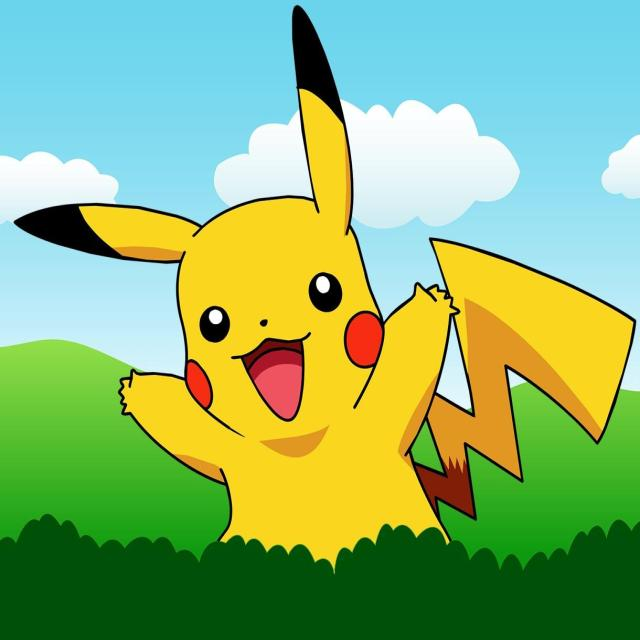pikachu: (12, 4, 640, 560)
